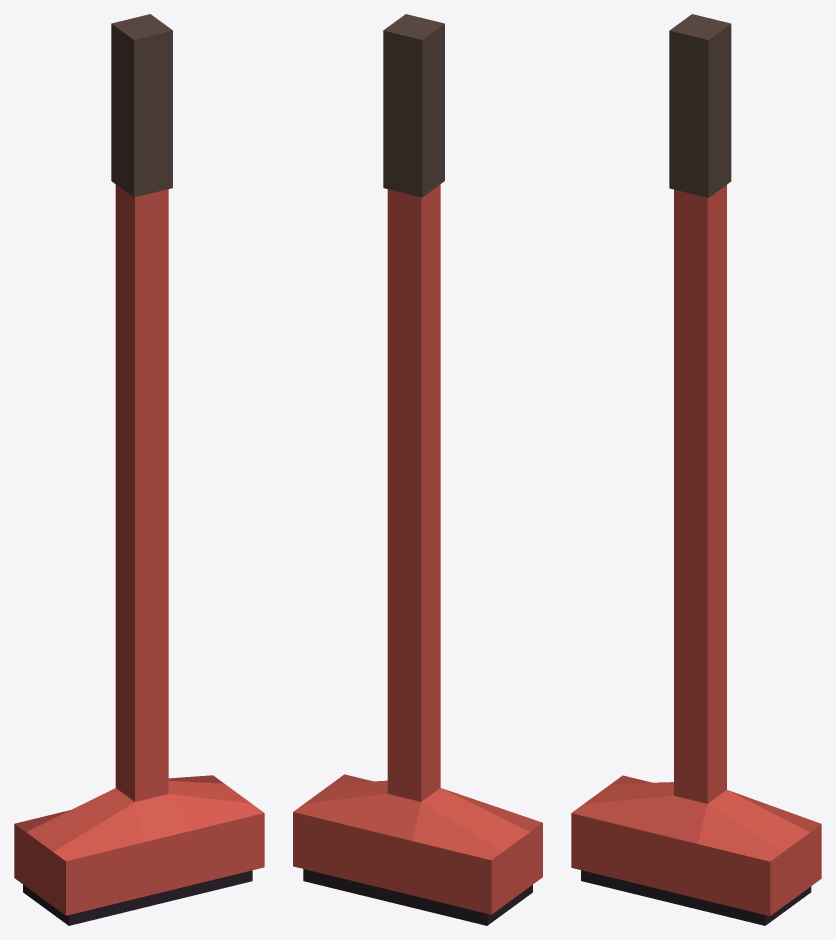
File: escombra.fbx
The picture shows the model from 3 angles, left to right: view 1: azimuth 30°, elevation 25°; view 2: azimuth 150°, elevation 25°; view 3: azimuth 330°, elevation 25°; orthographic projection.
Visible parts, largest first — view 1: Cube; view 2: Cube; view 3: Cube.
Part boxes in pixels (x1,y1,x2,y2): Cube: [14, 14, 264, 925]; Cube: [293, 14, 542, 925]; Cube: [571, 14, 821, 925].
Bounding box in the file's own units: 180 × 745 × 80.96.
